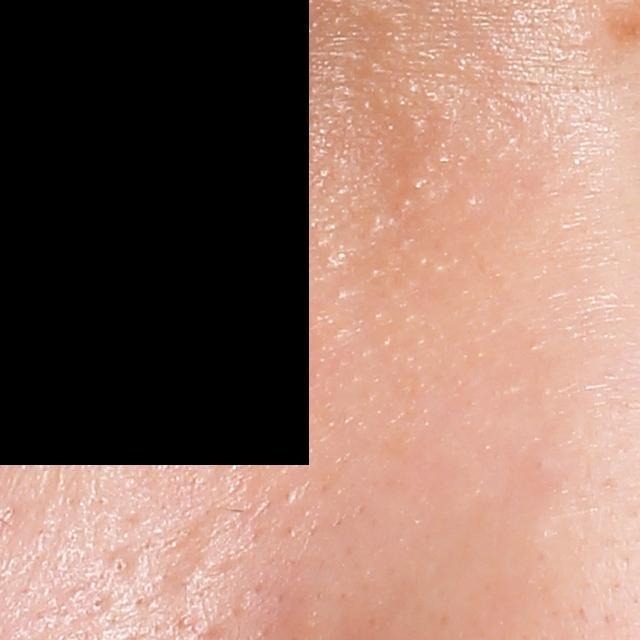atrophic_scar: (145, 510, 219, 603)
comedo: (110, 553, 131, 577), (88, 594, 105, 613)
